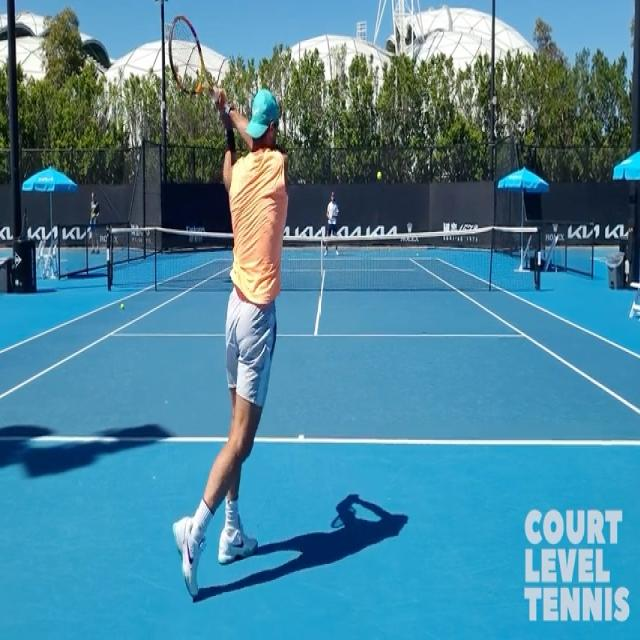backhand-finish: (168, 27, 294, 611)
